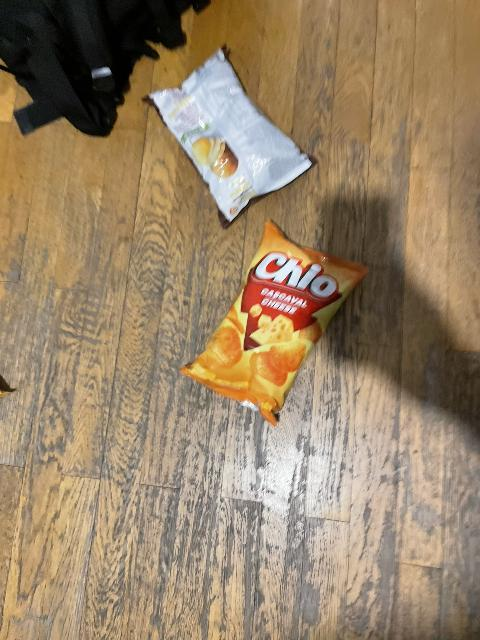Chio Cascaval 125g: (176, 220, 371, 422)
Lays Beef Grilled Ribs 125g: (145, 49, 314, 224)
